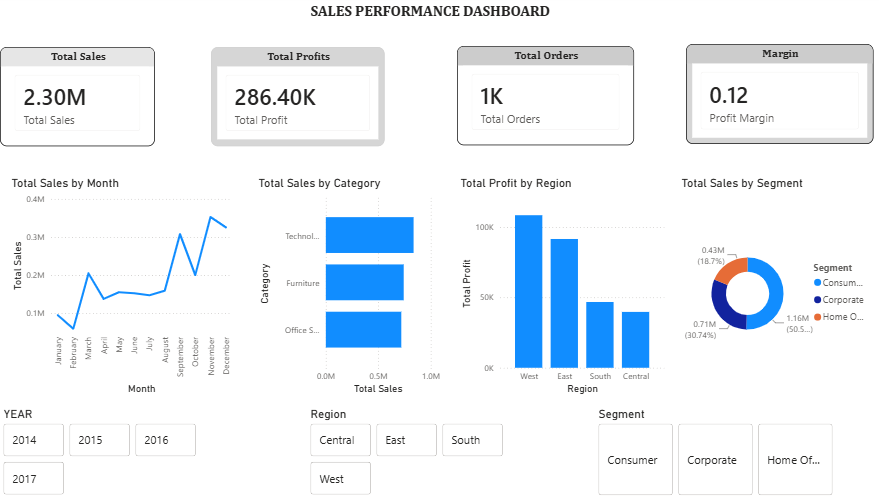

This screenshot's page, from the dashboard's own definition file:
{"tool":"powerbi","page":{"name":"Page 1","canvas":[1280,720],"ordinal":0},"visuals":[{"type":"cardVisual","title":"Total Sales","fields":{"Data":["Table1.Total Sales"]},"box":[0,68.9,223.4,142.8],"z":0},{"type":"cardVisual","title":"Total Profits","fields":{"Data":["Table1.Total Profit"]},"box":[304,68.9,250.3,142.8],"z":1000},{"type":"cardVisual","title":"Total Orders","fields":{"Data":["Table1.Total Orders"]},"box":[658.5,67.2,255.3,142.8],"z":2000},{"type":"cardVisual","title":" Margin","fields":{"Data":["Table1.Profit Margin"]},"box":[987.7,65.5,270.4,144.5],"z":3000},{"type":"lineChart","fields":{"Category":["Table1.Month"],"Y":["Table1.Total Sales"]},"box":[11.8,255.3,327.6,319.2],"z":4000},{"type":"clusteredBarChart","fields":{"Y":["Table1.Total Sales"],"Category":["Table1.Category"]},"box":[367.9,255.3,272.1,319.2],"z":5000},{"type":"clusteredColumnChart","fields":{"Category":["Table1.Region"],"Y":["Table1.Total Profit"]},"box":[658.5,255.3,304,319.2],"z":6000},{"type":"donutChart","fields":{"Y":["Table1.Total Sales"],"Category":["Table1.Segment"]},"box":[976,255.3,282.2,319.2],"z":7000},{"type":"textbox","box":[441.8,0,431.7,38.6],"z":8000},{"type":"advancedSlicerVisual","fields":{"Values":["Table1.YEAR"]},"box":[0,587.9,287.2,132.7],"z":9000},{"type":"advancedSlicerVisual","fields":{"Values":["Table1.Region"]},"box":[441.8,587.9,287.2,132.7],"z":10000},{"type":"advancedSlicerVisual","fields":{"Values":["Table1.Segment"]},"box":[856.7,587.9,349.4,132.7],"z":11000}]}

Visuals, with their boxes in screenshot pixels (x1, y1, x2, y2), scaled from the page's 1280x720 canvas onto the 879x499 screenshot:
"Total Sales" cardVisual: (left=0, top=48, right=153, bottom=147)
"Total Profits" cardVisual: (left=209, top=48, right=381, bottom=147)
"Total Orders" cardVisual: (left=452, top=47, right=628, bottom=146)
" Margin" cardVisual: (left=678, top=45, right=864, bottom=146)
lineChart - Table1.Month x Table1.Total Sales: (left=8, top=177, right=233, bottom=398)
clusteredBarChart - Table1.Total Sales x Table1.Category: (left=253, top=177, right=440, bottom=398)
clusteredColumnChart - Table1.Region x Table1.Total Profit: (left=452, top=177, right=661, bottom=398)
donutChart - Table1.Total Sales x Table1.Segment: (left=670, top=177, right=864, bottom=398)
textbox: (left=303, top=0, right=600, bottom=27)
advancedSlicerVisual - Table1.YEAR: (left=0, top=407, right=197, bottom=498)
advancedSlicerVisual - Table1.Region: (left=303, top=407, right=501, bottom=498)
advancedSlicerVisual - Table1.Segment: (left=588, top=407, right=828, bottom=498)
